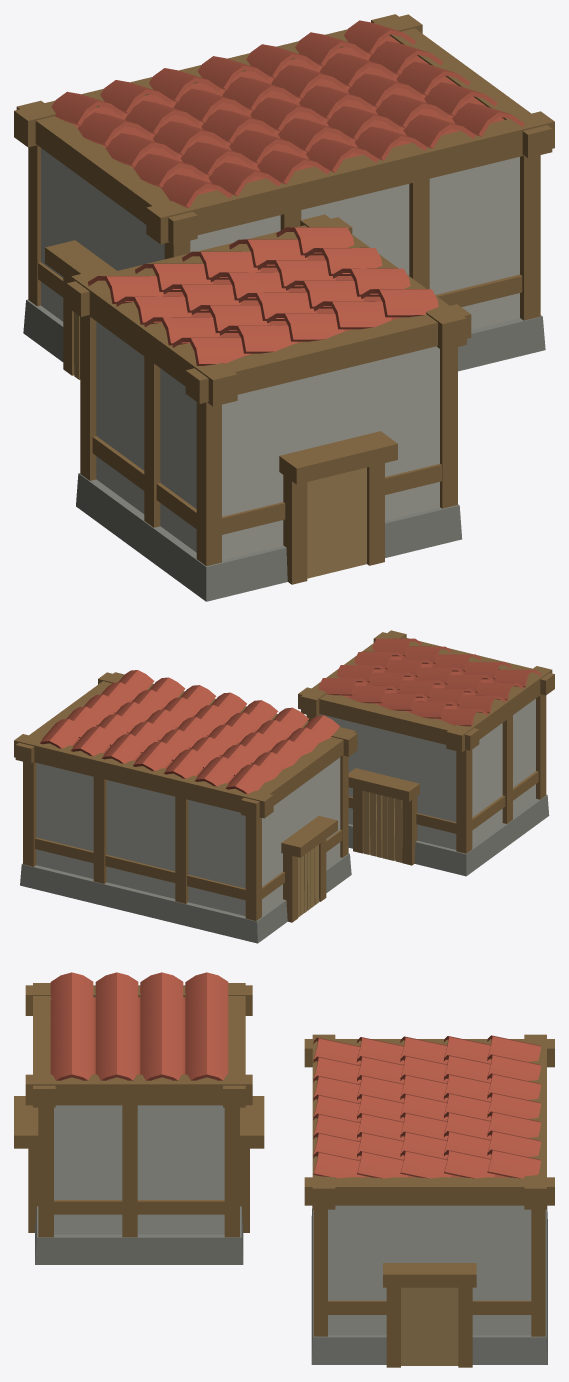
File: quaternius-real-time-strategy-pack-houses-second-age-3-level2.glb
3 views of the same model, one above another, from view 1: azimuth 30°, elevation 25°; view 2: azimuth 150°, elevation 25°; view 3: azimuth 270°, elevation 25° (orthographic). The views are drawn at different scales.
Visible parts, largest first — view 1: Houses_SecondAge_3_Level2; view 2: Houses_SecondAge_3_Level2; view 3: Houses_SecondAge_3_Level2.
Boxes of the visible parts, x1=… form: Houses_SecondAge_3_Level2: x1=14, y1=14, x2=554, y2=601; Houses_SecondAge_3_Level2: x1=14, y1=630, x2=554, y2=943; Houses_SecondAge_3_Level2: x1=14, y1=972, x2=554, y2=1367.
Bounding box in the file's own units: 1.35 × 0.5908 × 1.46.
